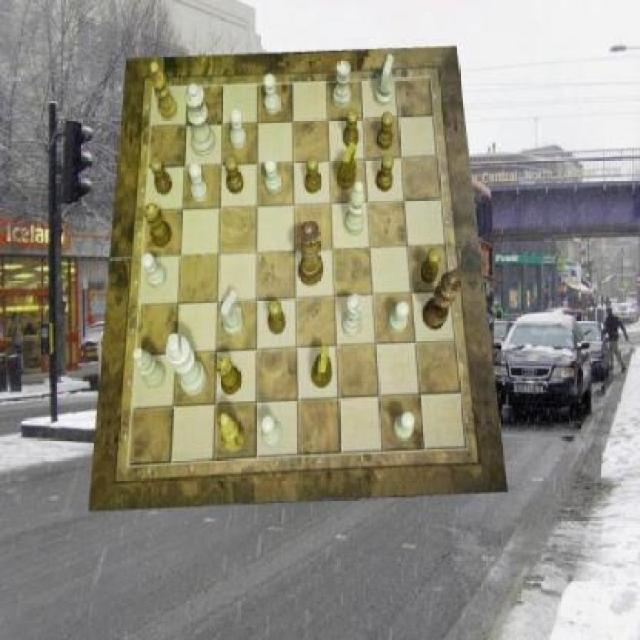bishop: (150, 62, 178, 120), (220, 414, 246, 454)
black-bishop: (423, 269, 462, 331)
black-king: (337, 143, 357, 191), (310, 345, 332, 387)
black-knight: (150, 157, 172, 195), (224, 157, 243, 195), (420, 249, 440, 284), (375, 154, 393, 191), (306, 155, 323, 193), (377, 111, 394, 149), (343, 108, 359, 148), (268, 298, 285, 334)
black-pawn: (300, 220, 325, 286)
black-queen: (145, 201, 172, 247), (217, 357, 241, 397)
black-rook: (132, 348, 166, 388), (346, 182, 366, 236)
white-bishop: (166, 334, 207, 396)
white-king: (374, 54, 394, 106), (220, 291, 243, 336)
white-knight: (143, 252, 168, 288), (264, 74, 282, 115), (190, 163, 208, 202), (389, 301, 410, 334), (230, 108, 246, 149), (392, 412, 415, 440), (262, 417, 282, 449), (266, 158, 283, 194)
white-pawn: (186, 83, 217, 157)
white-queen: (343, 294, 363, 338), (334, 60, 351, 109)
